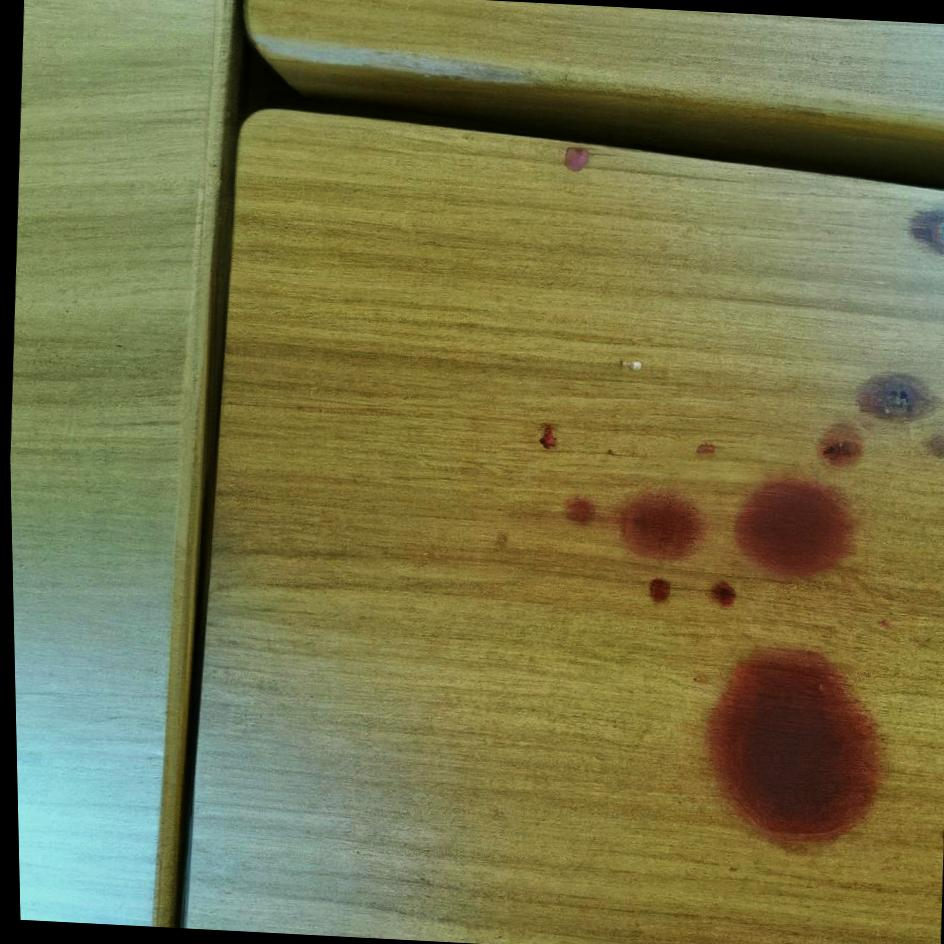Fire: (700, 644, 878, 847), (729, 475, 854, 580), (560, 488, 706, 561), (814, 422, 861, 470), (707, 579, 733, 607), (646, 578, 668, 602)
